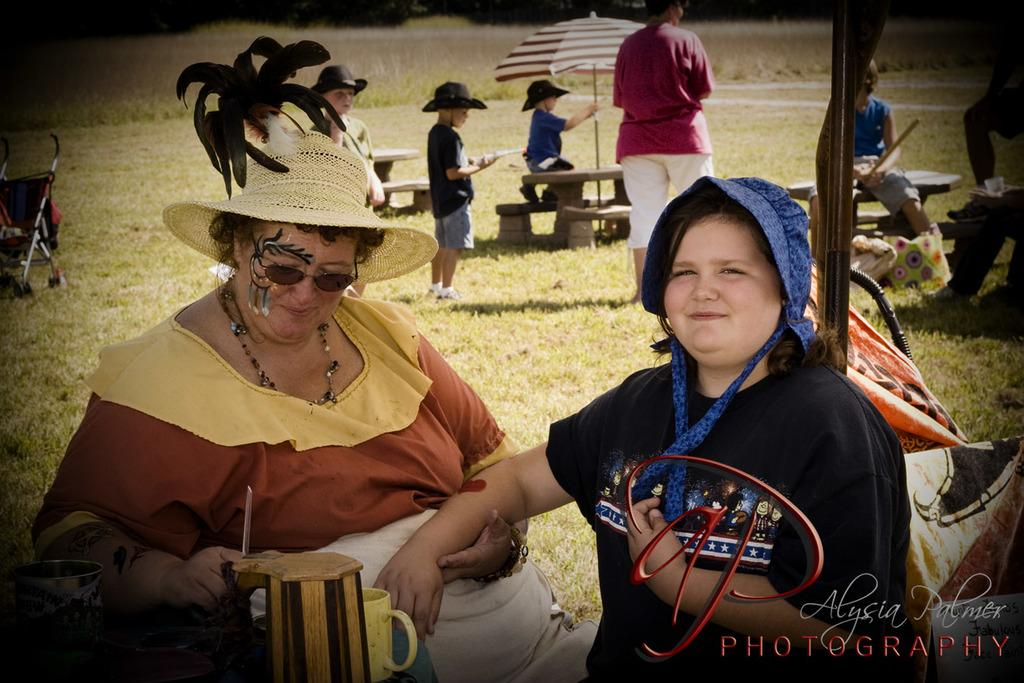Hat: (160, 32, 436, 282), (417, 79, 485, 126), (304, 66, 368, 96), (520, 78, 568, 108)
